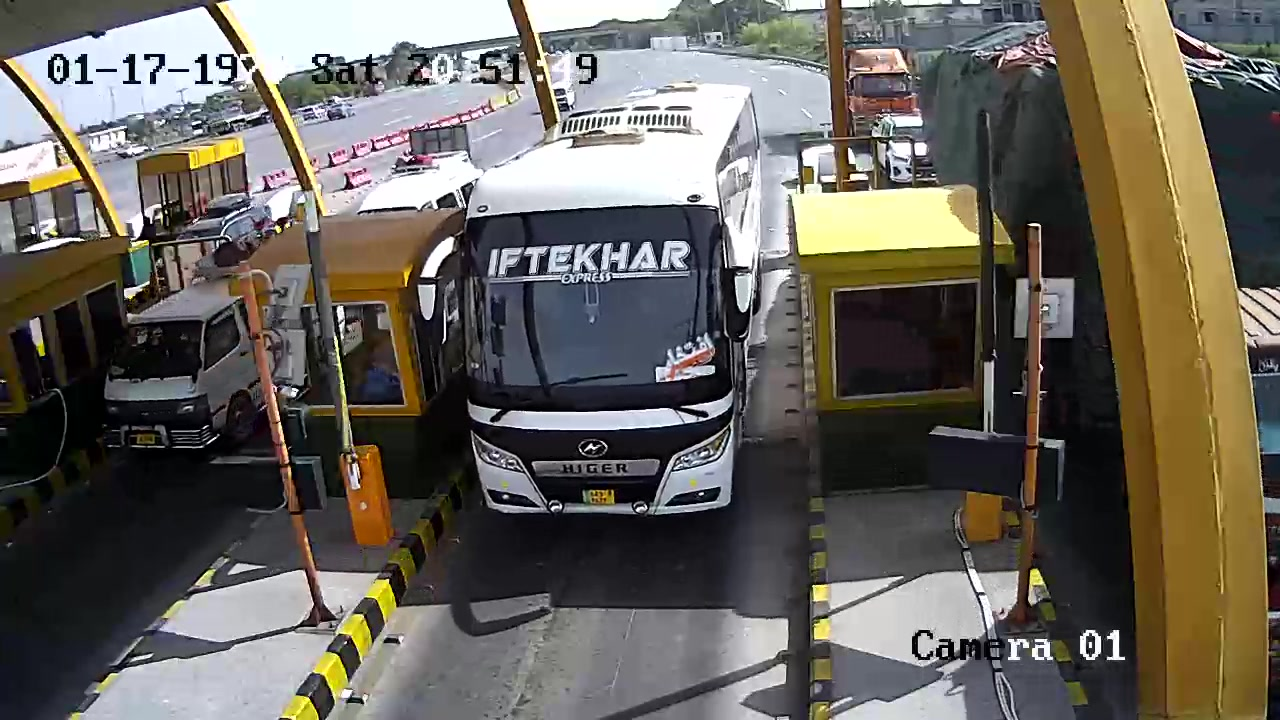F4: (449, 64, 773, 543)
